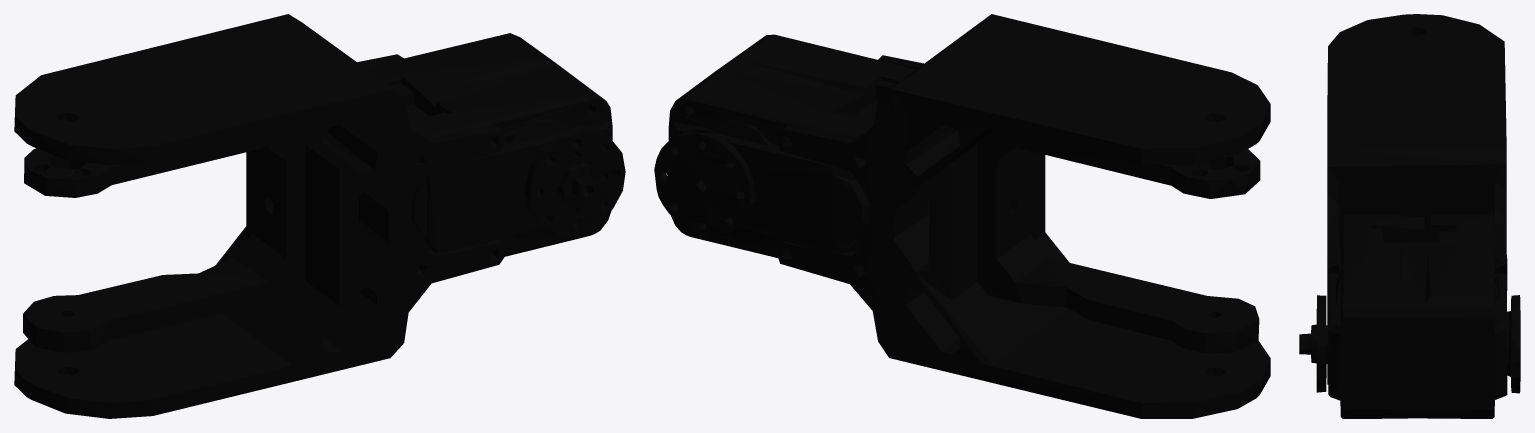
The model's file is servo4_link.dae.
3 renders of one model, left to right at view 1: azimuth 30°, elevation 25°; view 2: azimuth 150°, elevation 25°; view 3: azimuth 270°, elevation 25°, orthographic. The views are drawn at different scales.
Visible parts, largest first — view 1: servo4_link; view 2: servo4_link; view 3: servo4_link.
Boxes of the visible parts, x1,y1,x2,y2 form: servo4_link: (14,14,625,418); servo4_link: (654,14,1270,418); servo4_link: (1299,14,1520,418).
Size of the model in its own units: 0.1411 by 0.0568 by 0.067.
1 material, 1 textured.
